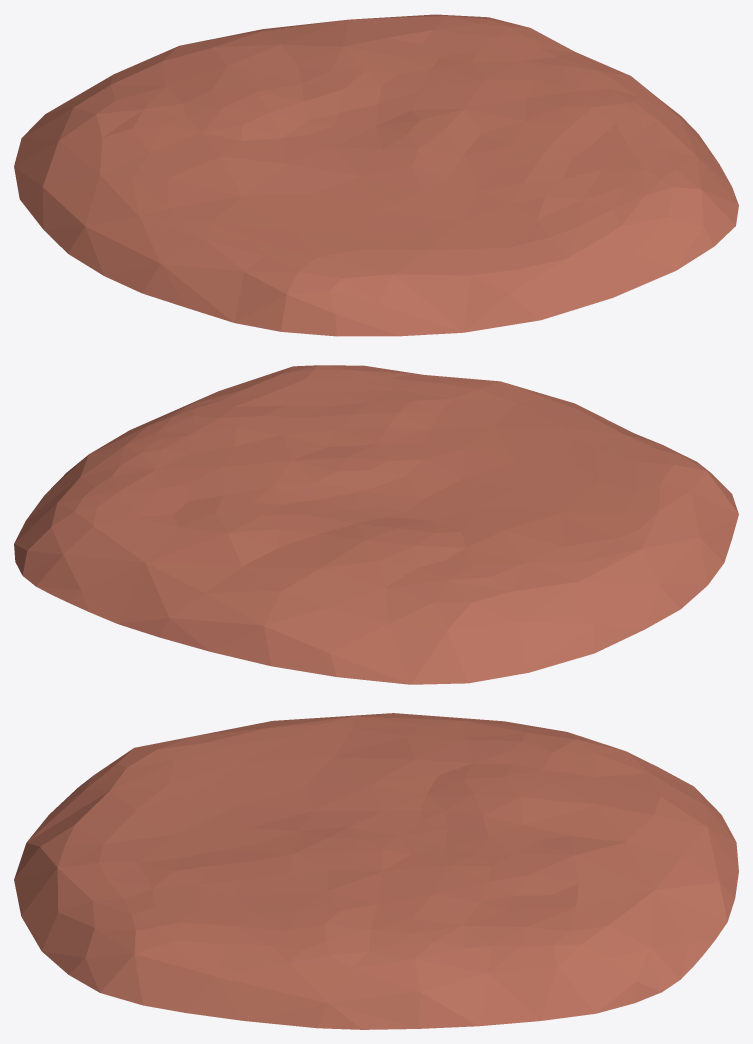
File: land_001.fbx
The picture shows the model from 3 angles, top to bottom: view 1: azimuth 30°, elevation 25°; view 2: azimuth 150°, elevation 25°; view 3: azimuth 270°, elevation 25°; orthographic projection. The views are drawn at different scales.
Visible parts, largest first — view 1: land_001; view 2: land_001; view 3: land_001.
Part boxes in pixels (box(x1,y1,x2,y2)): land_001: box(14, 14, 738, 336); land_001: box(14, 365, 738, 684); land_001: box(14, 713, 738, 1029).
Bounding box in the file's own units: 4578 × 4602 × 436.
